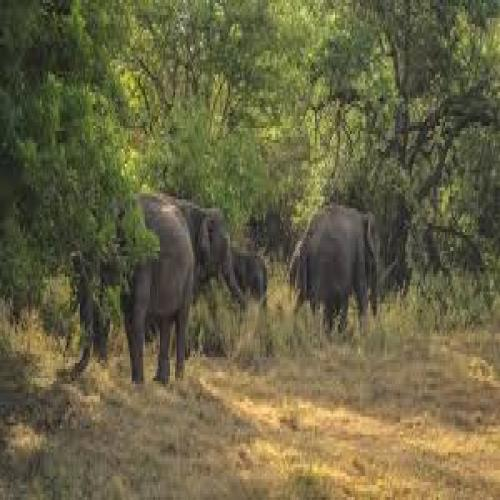asian_elephant-endangered: (57, 194, 195, 383), (295, 206, 380, 338), (176, 192, 246, 306)
